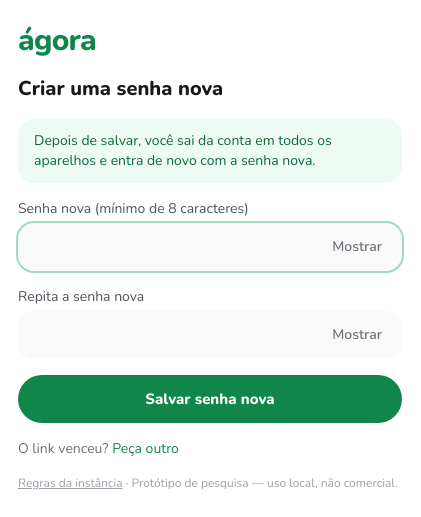
it: recuperar senha › redefinir: senhas diferentes são recusadas na tela; iguais salvam e levam ao login com aviso
In the password field labelled "Senha nova (mínimo de 8 caracteres) Mostrar": (210, 247) [18,223,402,271], type "senha-nova-123"
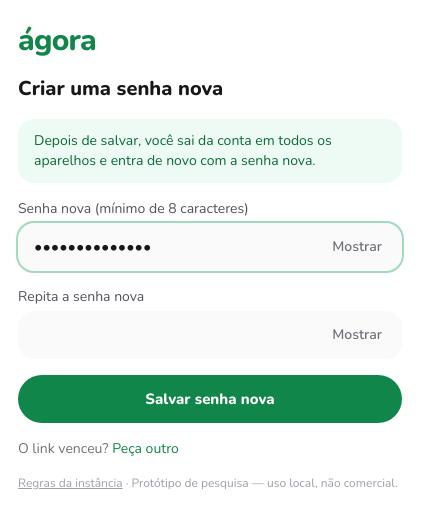
In the password field labelled "Repita a senha nova": (210, 335) [18,311,402,359], type "senha-errada-1"
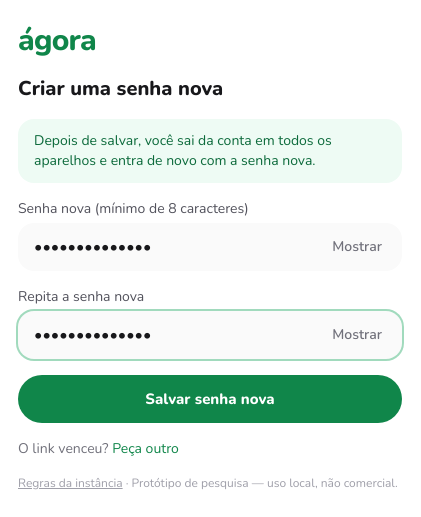
Click the button "Salvar senha nova": (210, 399) [18,375,402,423]
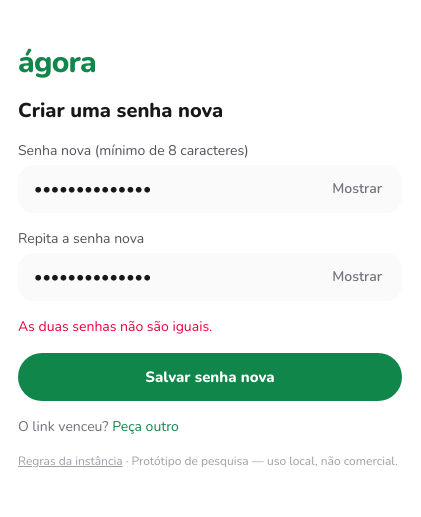
Expected: the message reads "As duas senhas não são iguais.", [18,317,212,336]
In the password field labelled "Repita a senha nova": (210, 277) [18,253,402,301], type "senha-nova-123"
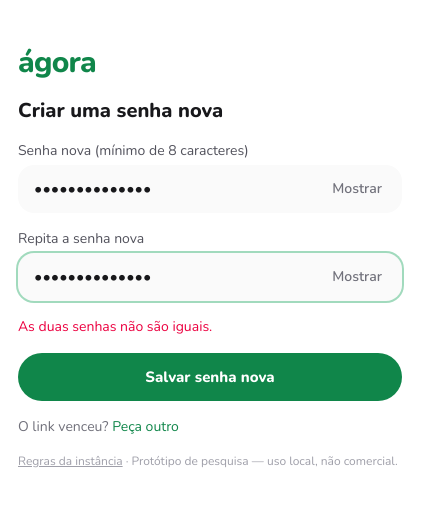
Click the button "Salvar senha nova": (210, 377) [18,353,402,401]
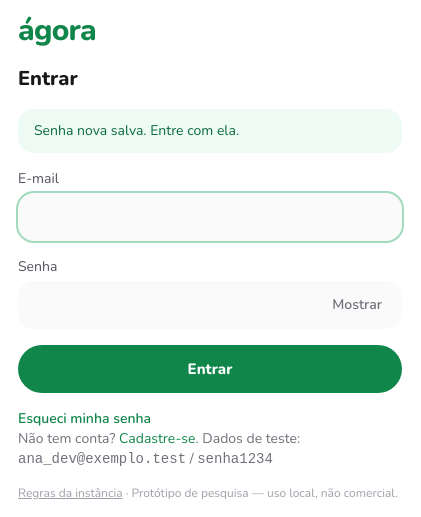
Expected: the heading "Entrar" is shown, [18,65,78,92]
Expected: the message reads "Senha nova salva. Entre com ela.", [34,121,239,140]
